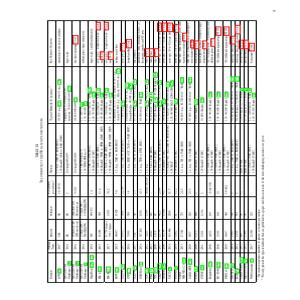table: (32, 13, 269, 286)
